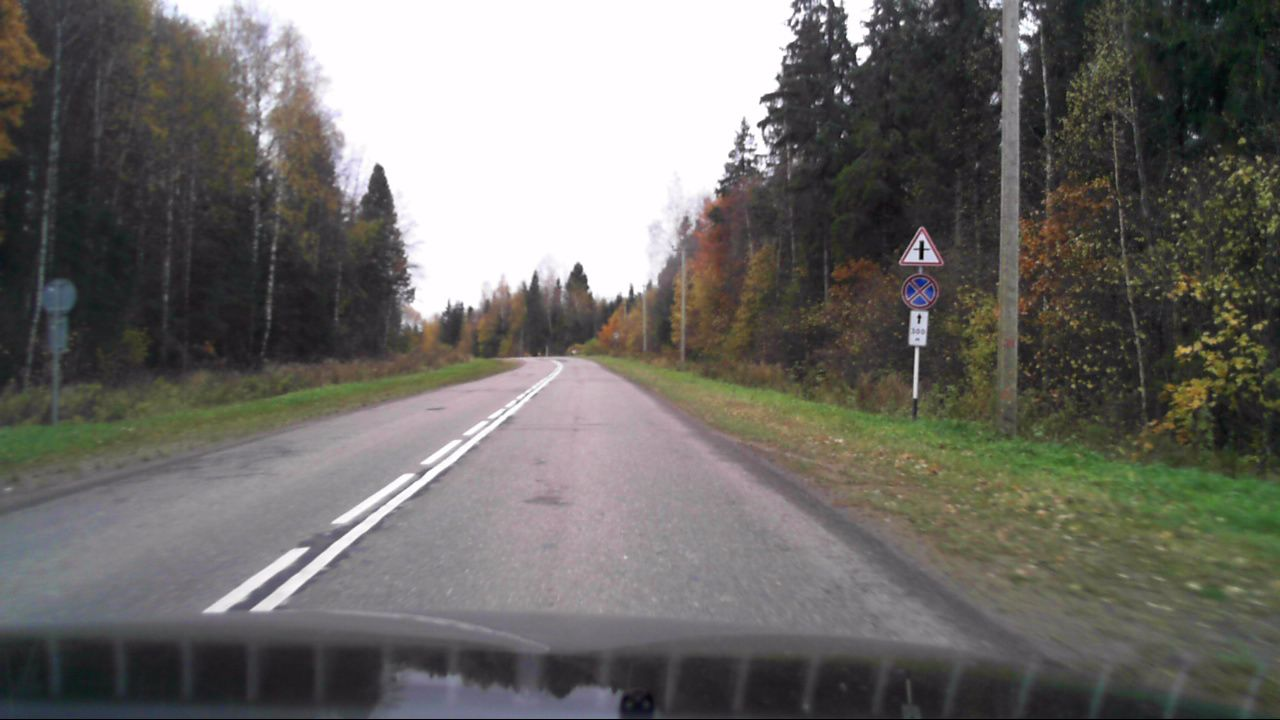No Parking: (900, 273, 939, 309)
